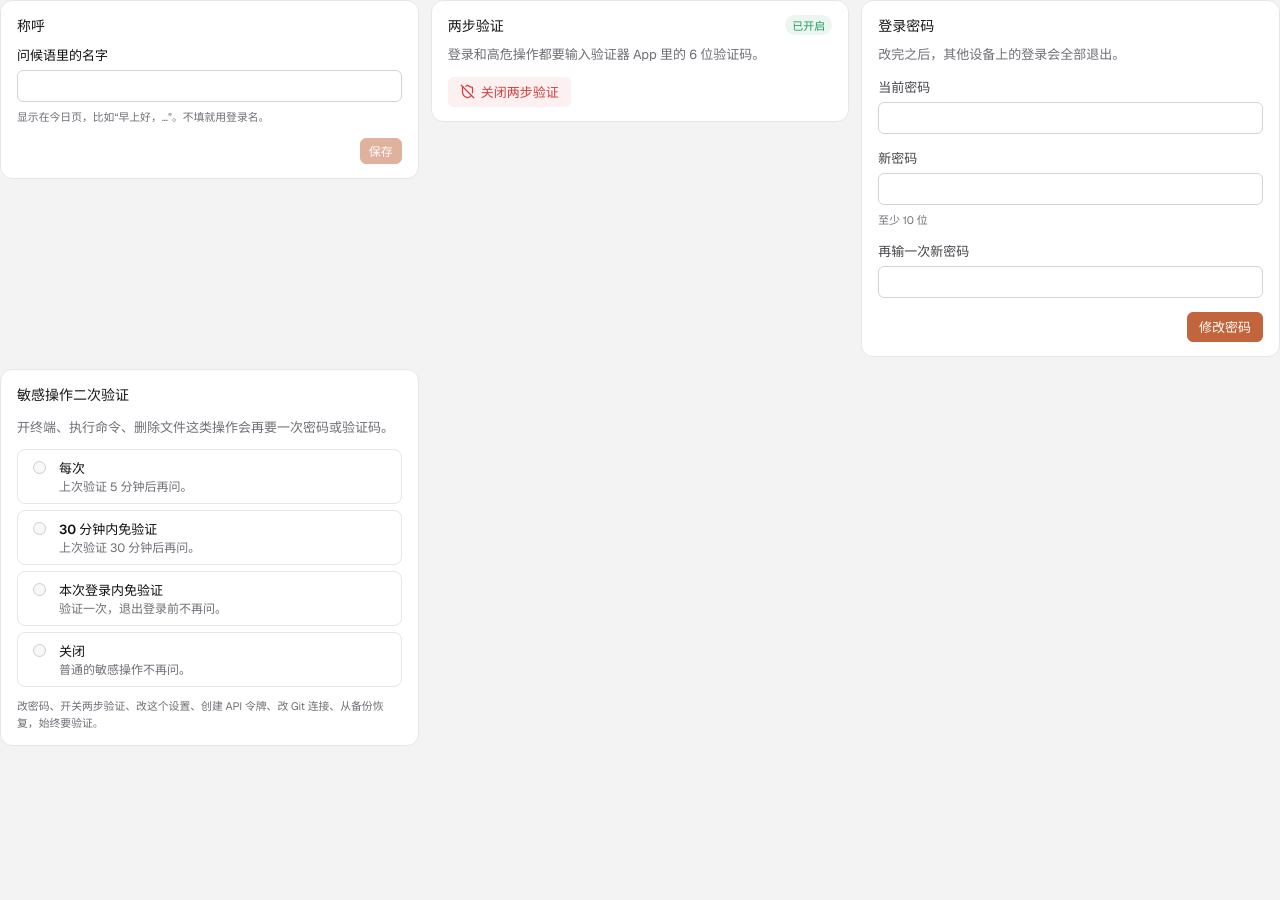
security tab › turning off needs the password and the code
The width and height of the screenshot is (1280, 900).
Expected: the text "已开启" is shown, x1=785 y1=15 x2=832 y2=35
Click the button "关闭两步验证": (509, 92) x1=448 y1=76 x2=571 y2=106
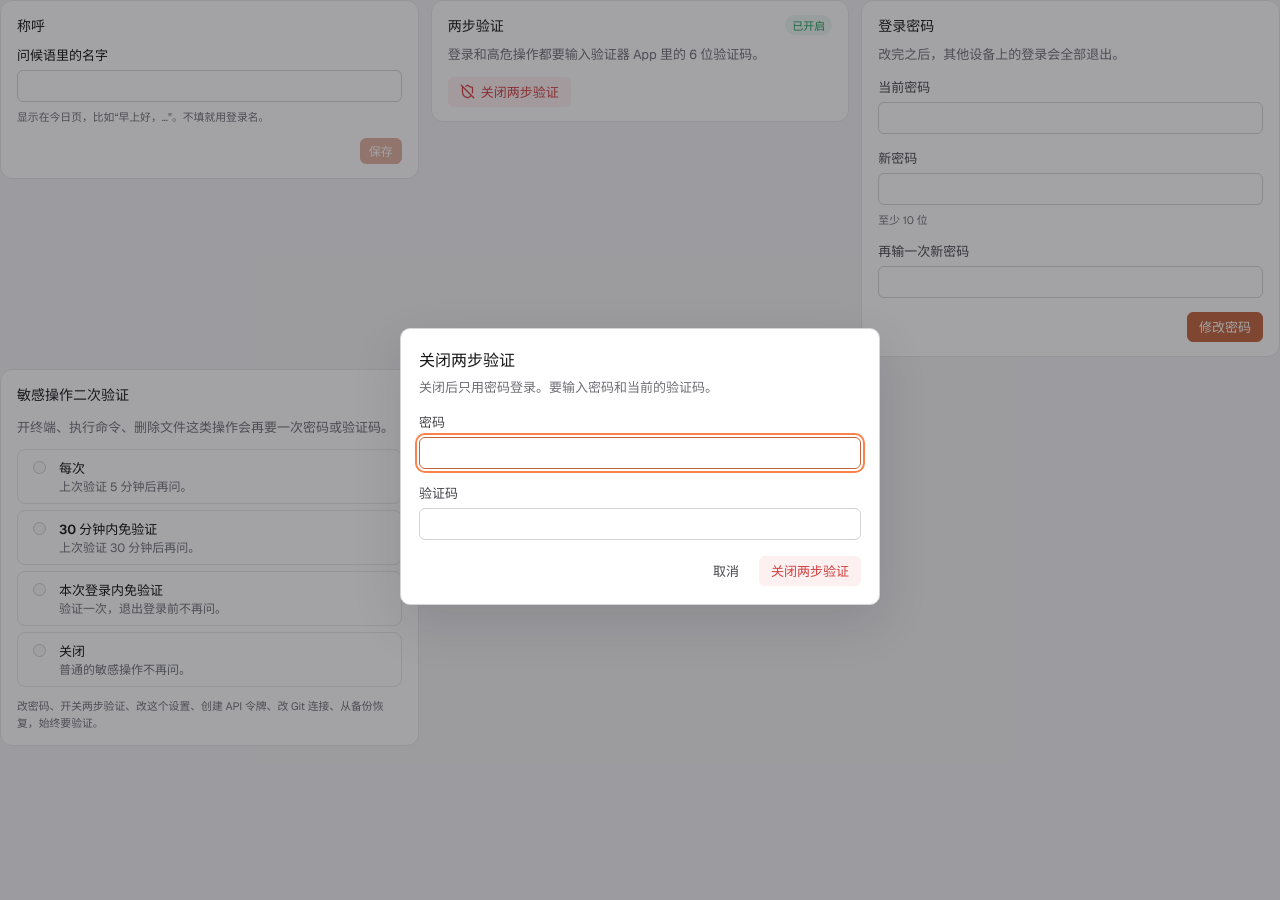
In the password field labelled "密码": (640, 452) x1=419 y1=436 x2=861 y2=468, type "0123456789"
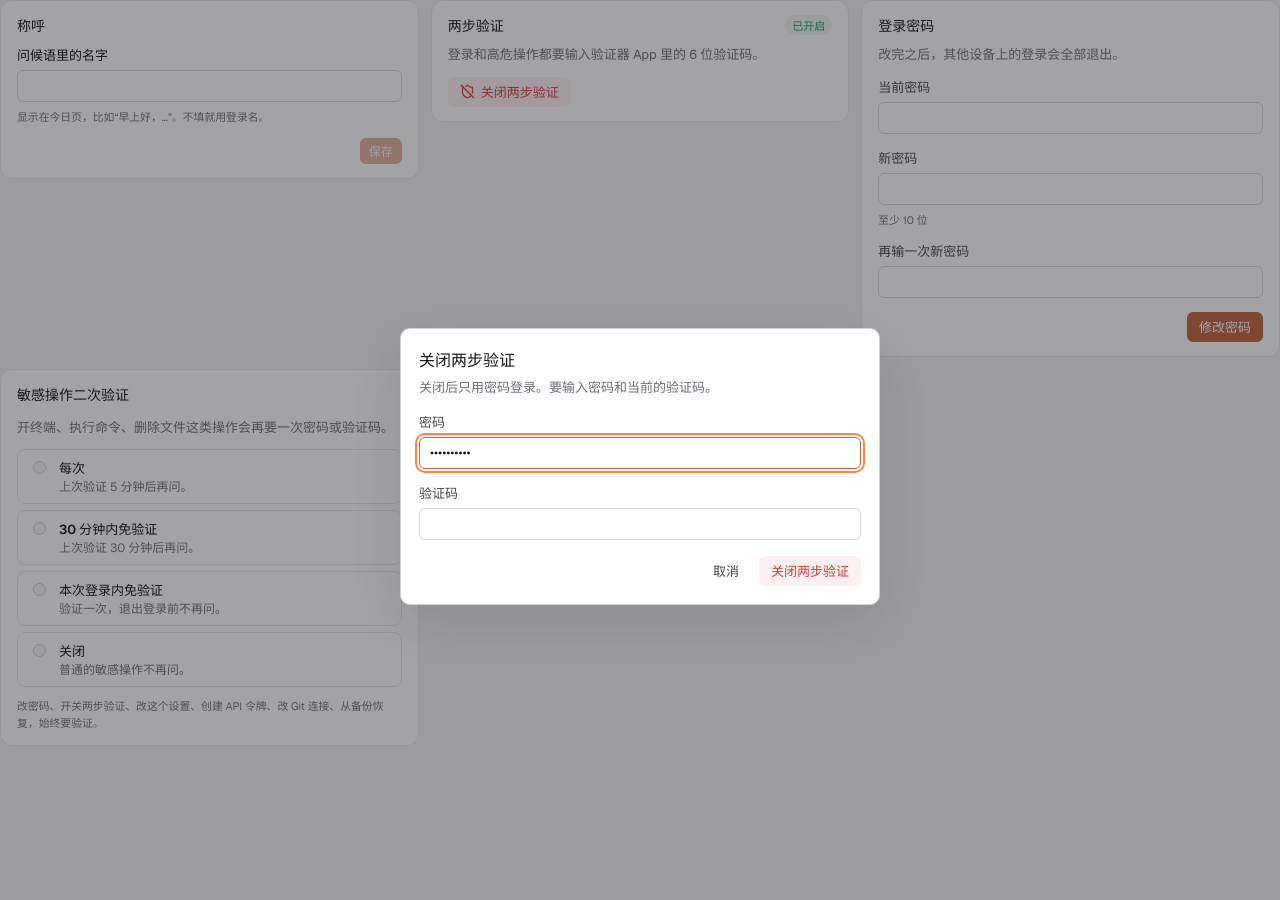
In the field with class "xc-mono": (640, 524) x1=419 y1=508 x2=861 y2=540, type "111111"
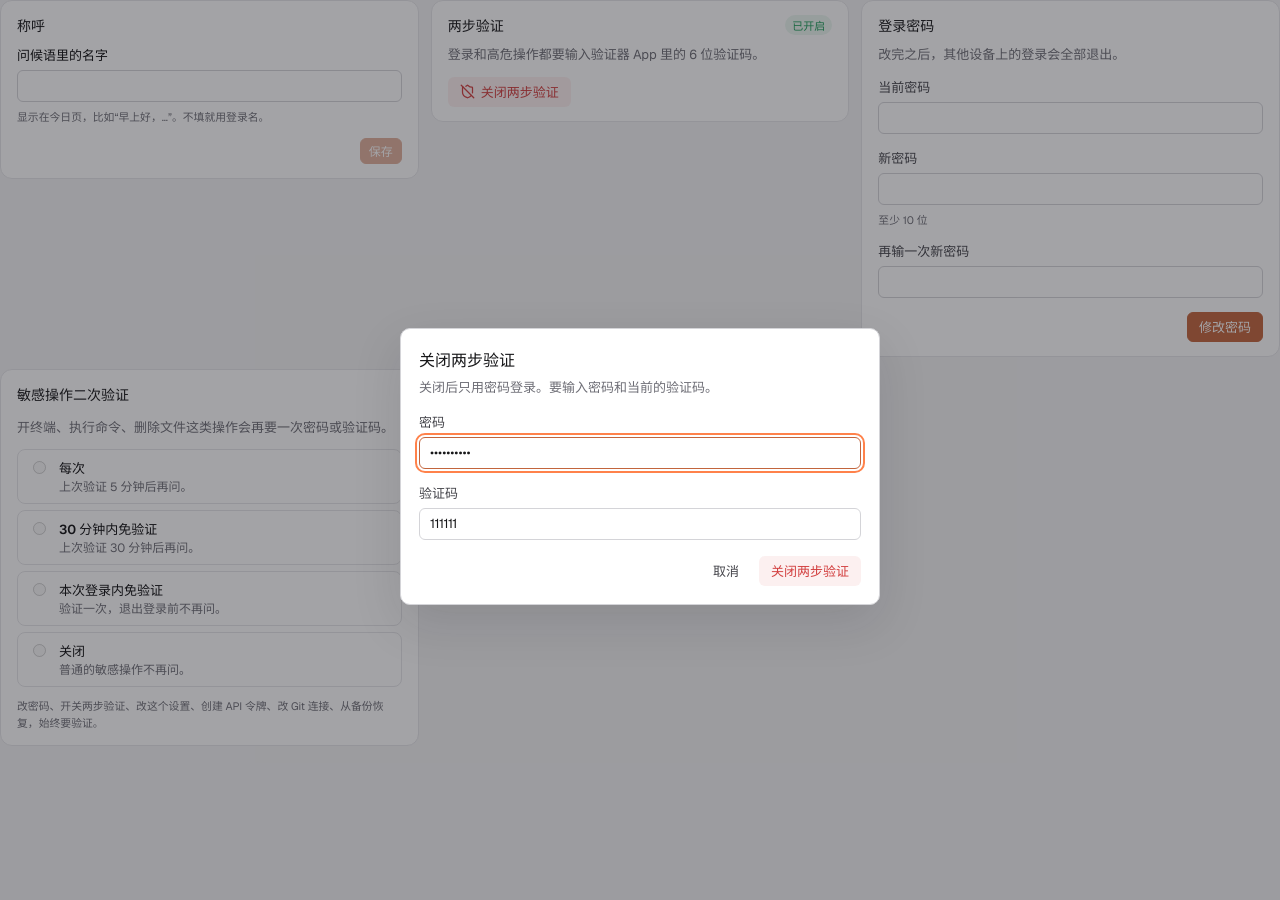
Submit the form "密码 验证码 取消 关闭两步验证", box x1=419 y1=412 x2=861 y2=586
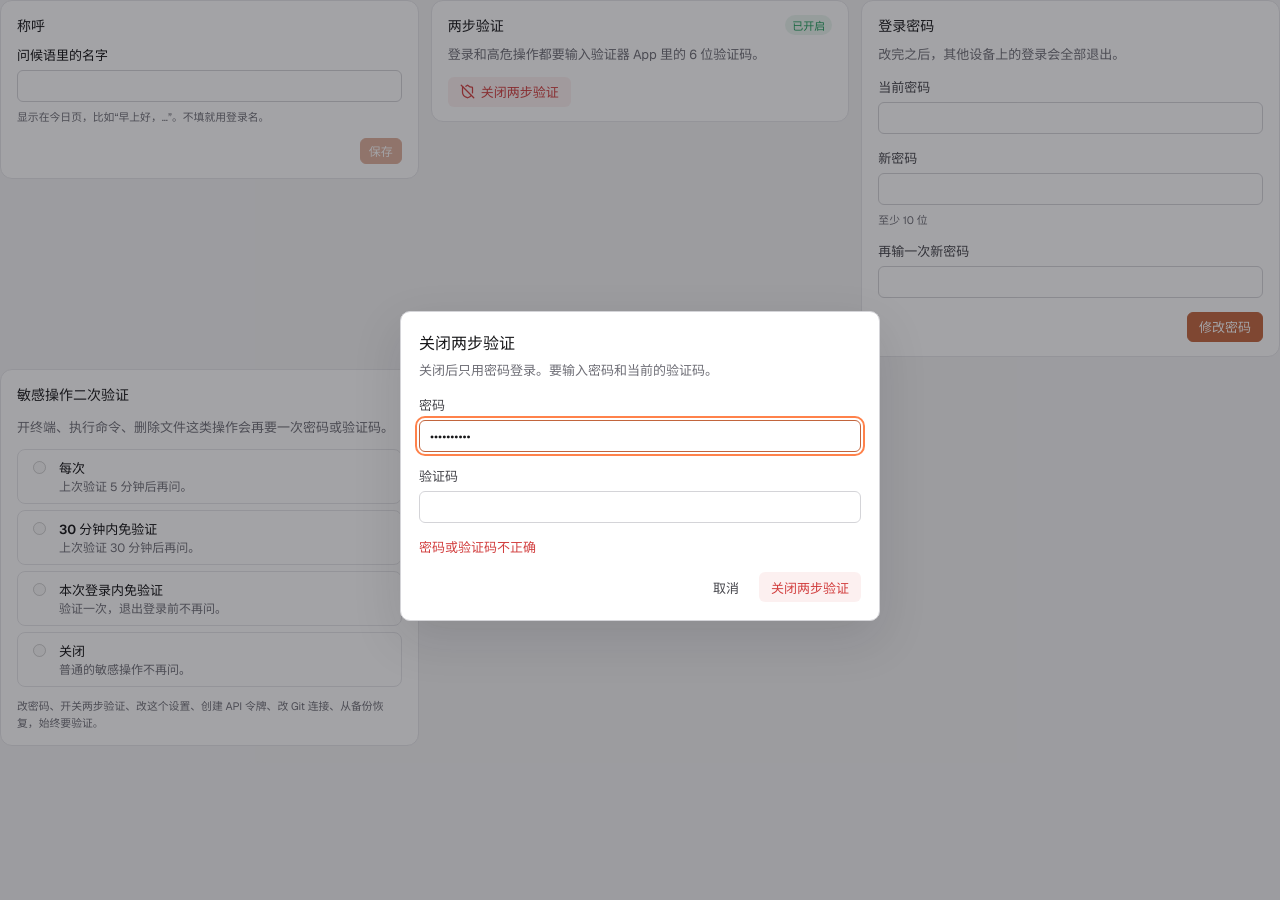
Expected: the text "密码或验证码不正确" is shown, x1=419 y1=539 x2=536 y2=556
